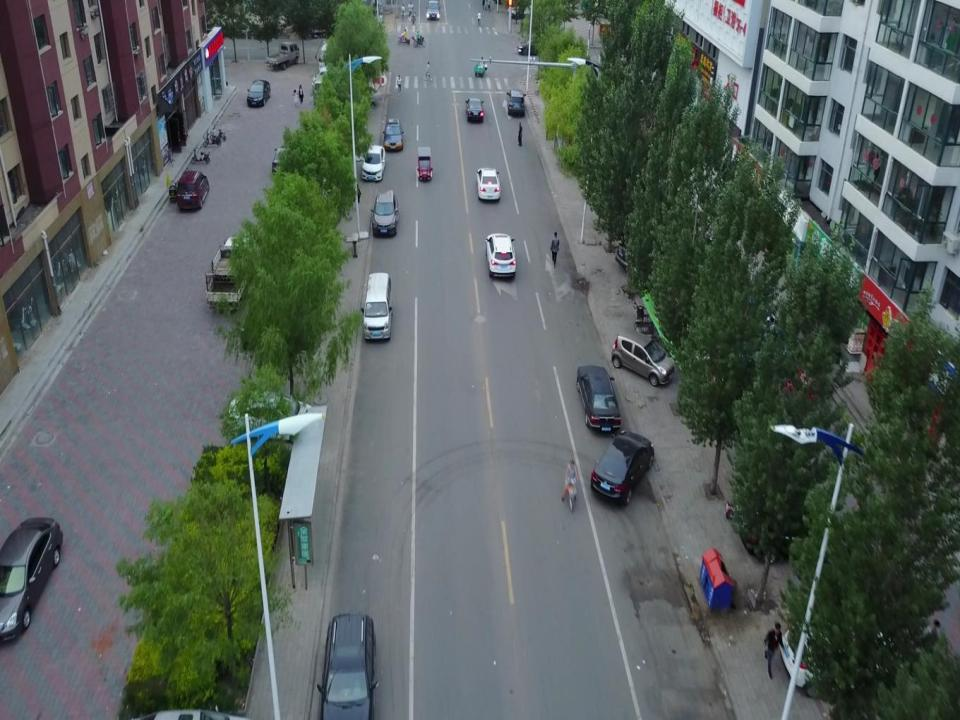car: (2, 510, 61, 645), (322, 609, 376, 720), (582, 429, 656, 508), (229, 390, 317, 436), (613, 328, 678, 384), (574, 360, 622, 433), (784, 620, 836, 686), (364, 266, 392, 339), (484, 228, 516, 281), (173, 167, 210, 209), (371, 188, 399, 241), (266, 40, 302, 72), (475, 164, 501, 206), (361, 140, 385, 182), (381, 118, 405, 156), (505, 88, 526, 122), (247, 79, 271, 105), (464, 93, 484, 124), (515, 36, 537, 55), (426, 0, 441, 20)
truck: (206, 226, 250, 310)
